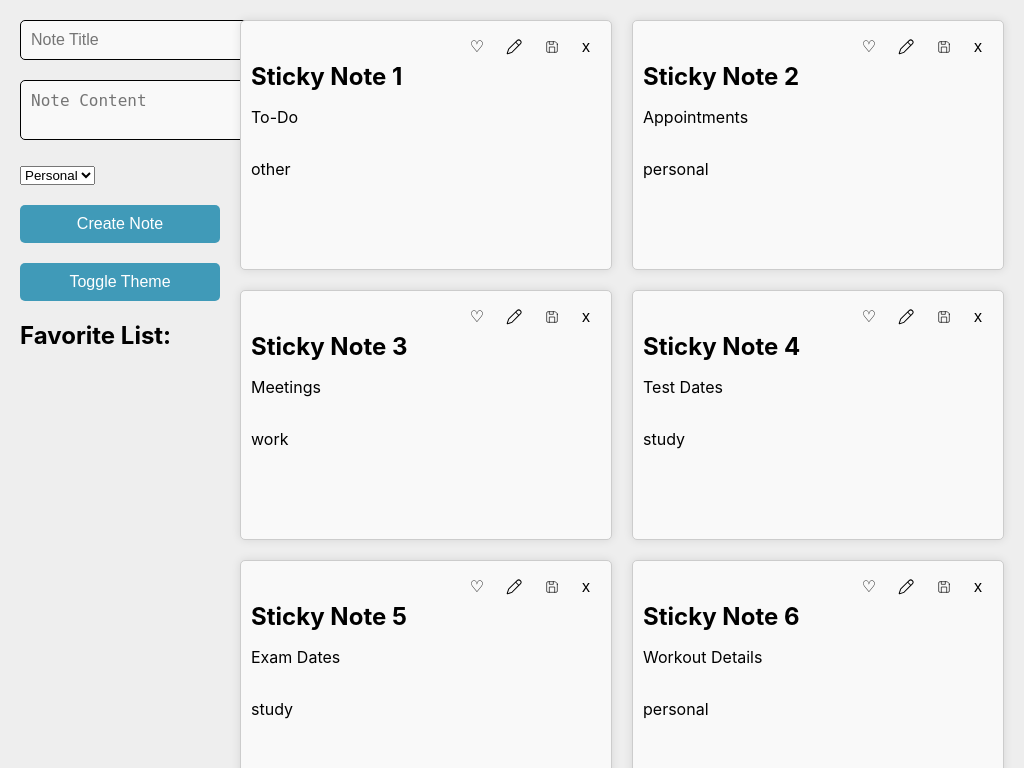
it: Create, Display, Edit, Delete Stickynote › creates a new note
In the field with placeholder "Note Title": (134, 40) [20,20,249,60], type "New Note"
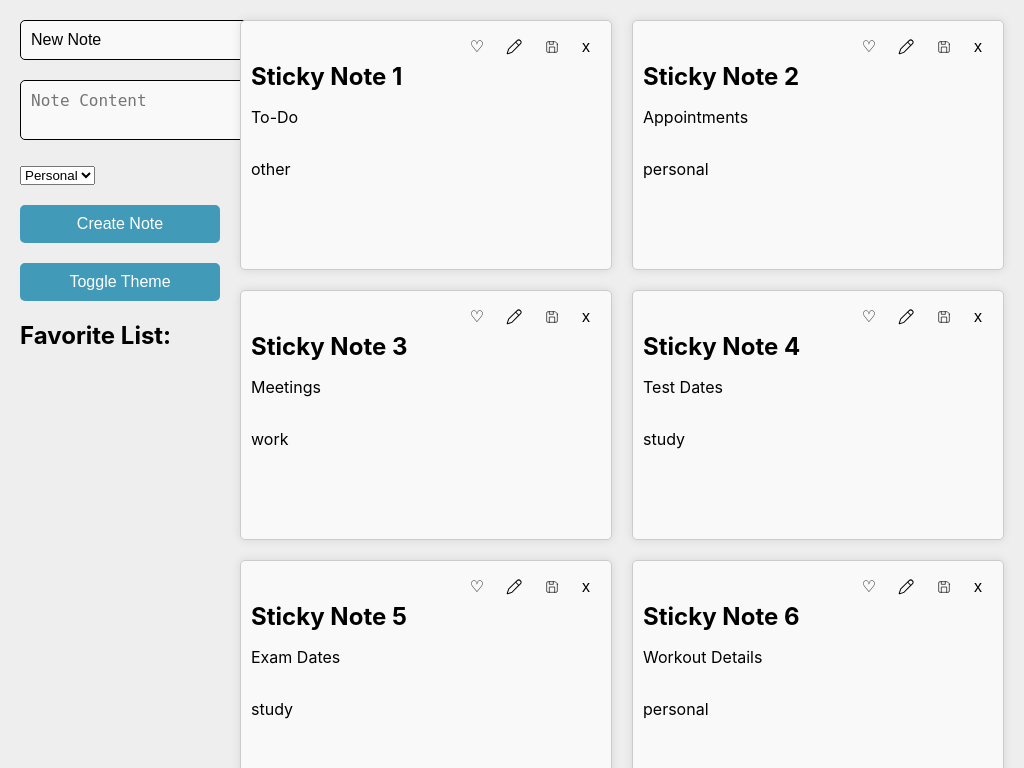
In the text box with placeholder "Note Content": (138, 110) [20,80,257,140], type "Note content"
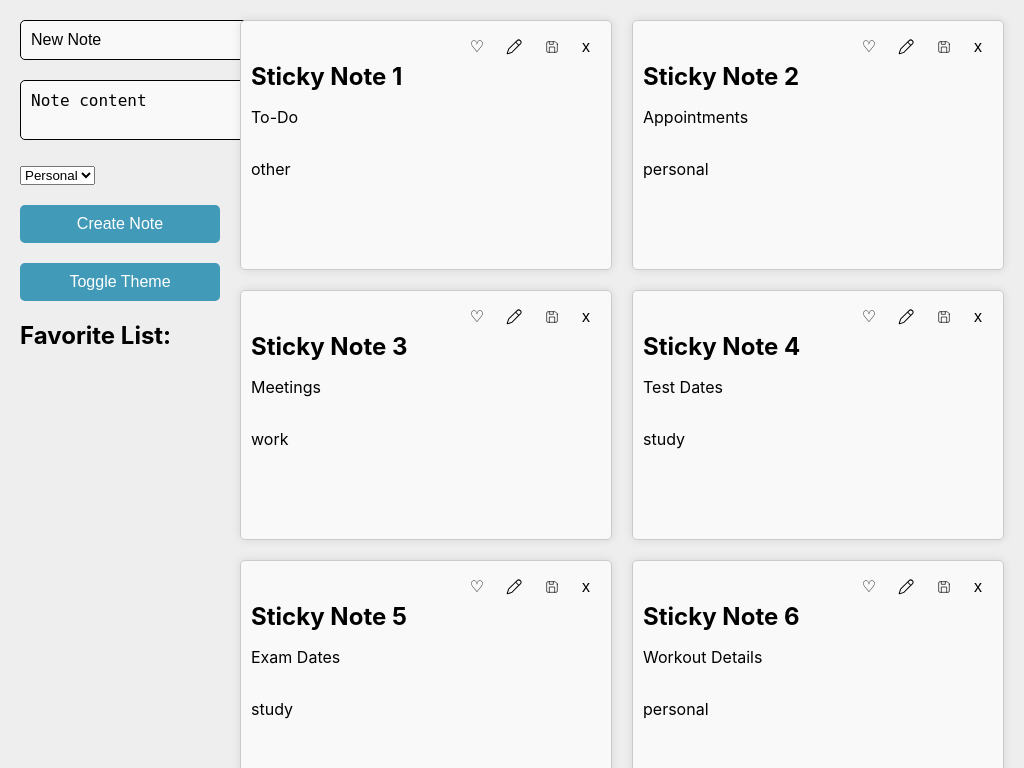
Click the button "Create Note": (120, 224) [20,205,220,243]
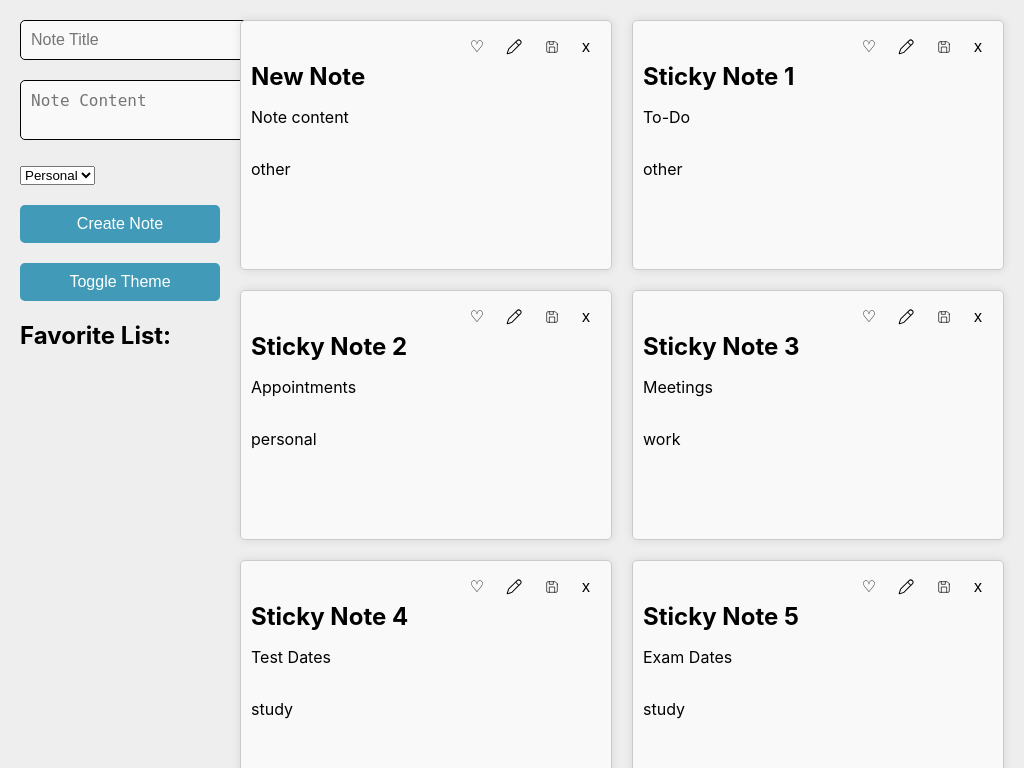
Now the heading "New Note" is shown, box [251,62,365,91]
Now the text "Note content" is shown, box [251,107,349,127]
